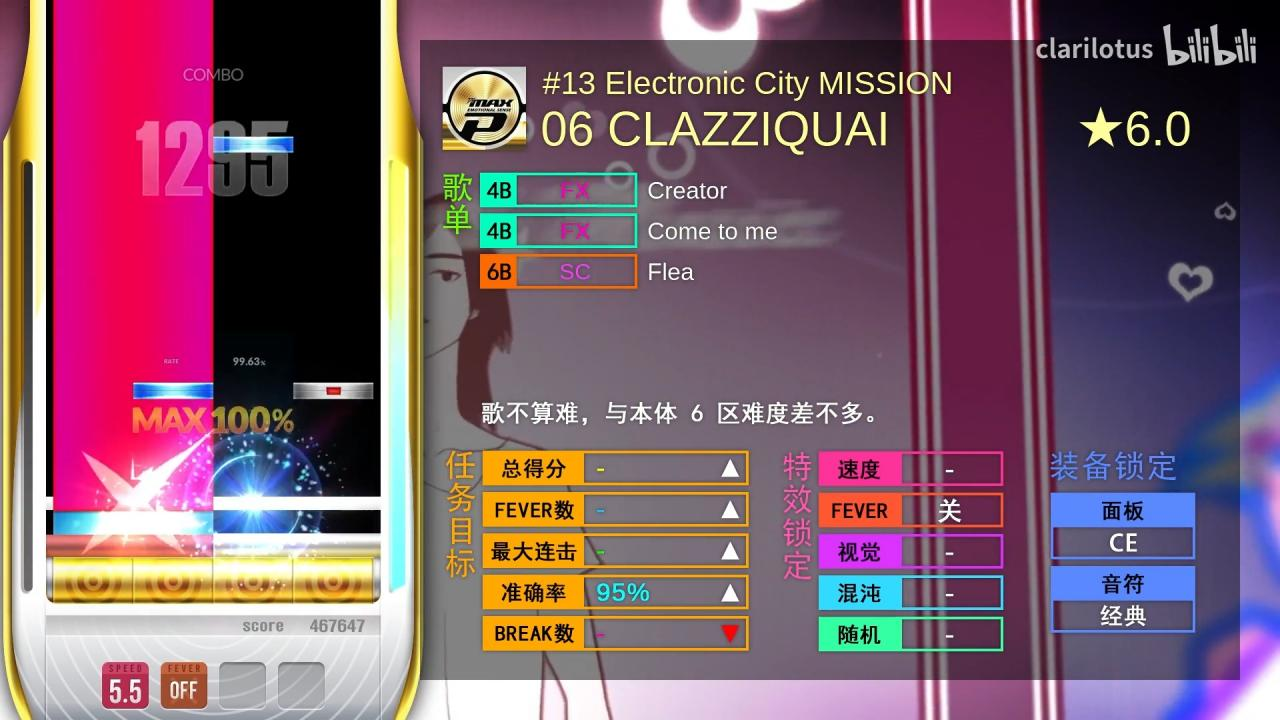note: (213, 136, 294, 153), (133, 383, 214, 400), (293, 383, 374, 400)
